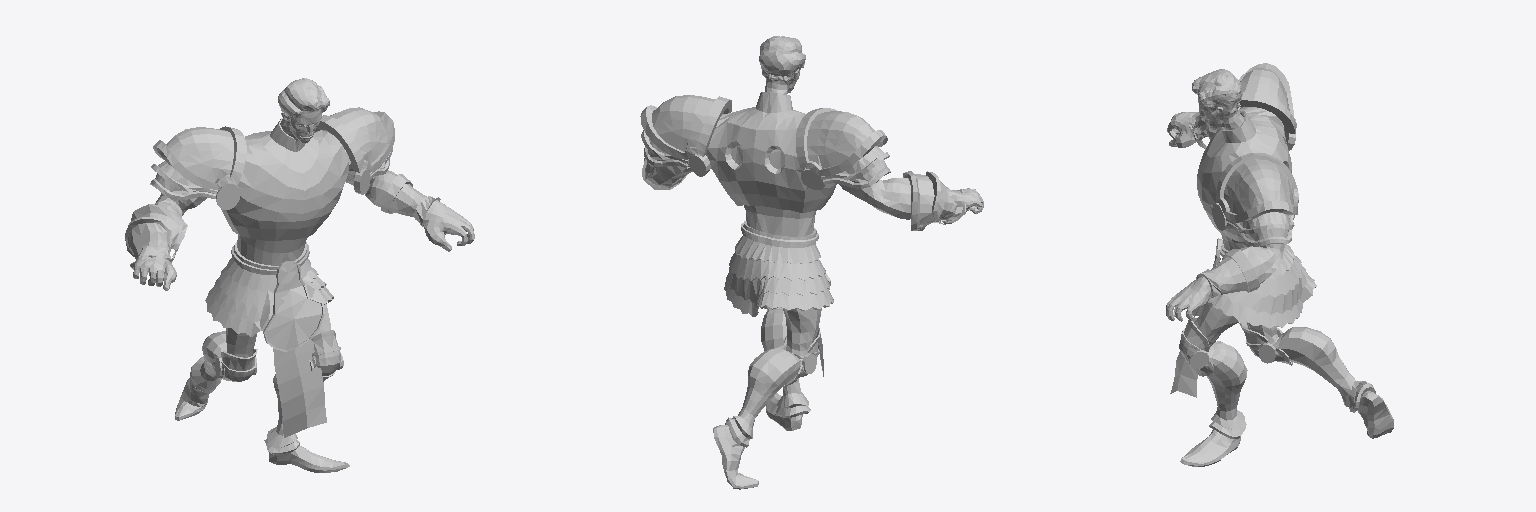
The model's file is walking_000063.obj.
3 views of the same model, side by side, from view 1: azimuth 30°, elevation 25°; view 2: azimuth 150°, elevation 25°; view 3: azimuth 270°, elevation 25° (orthographic).
Parts seen in each view (by area): view 1: polySurface17, polySurface13, polySurface4, polySurface18, polySurface26, polySurface12, polySurface7, polySurface9, polySurface3, polySurface16, polySurface21, polySurface24; view 2: polySurface17, polySurface4, polySurface13, polySurface7, polySurface9, polySurface16, polySurface3, polySurface18; view 3: polySurface17, polySurface7, polySurface4, polySurface18, polySurface3, polySurface13, polySurface16, polySurface21, polySurface26, polySurface24.
Boxes of the visible parts, box(x1,y1,x2,y2) form: polySurface17: box(175, 118, 349, 472); polySurface13: box(150, 126, 246, 200); polySurface4: box(205, 257, 333, 336); polySurface18: box(327, 131, 474, 251); polySurface26: box(273, 340, 326, 437); polySurface12: box(263, 261, 324, 351); polySurface7: box(315, 107, 394, 179); polySurface9: box(125, 204, 187, 272); polySurface3: box(278, 78, 329, 147); polySurface16: box(133, 193, 206, 290); polySurface21: box(311, 330, 341, 381); polySurface24: box(212, 349, 257, 381); polySurface17: box(706, 92, 836, 489); polySurface4: box(724, 235, 833, 316); polySurface13: box(796, 108, 890, 188); polySurface7: box(640, 95, 731, 168); polySurface9: box(903, 171, 965, 230); polySurface16: box(839, 178, 983, 219); polySurface3: box(759, 36, 805, 94); polySurface18: box(642, 154, 705, 189); polySurface17: box(1180, 108, 1393, 466); polySurface7: box(1216, 153, 1298, 246); polySurface4: box(1208, 244, 1316, 328); polySurface18: box(1166, 244, 1285, 321); polySurface3: box(1192, 69, 1243, 130); polySurface13: box(1238, 63, 1296, 133); polySurface16: box(1167, 106, 1261, 147); polySurface21: box(1179, 317, 1213, 376); polySurface26: box(1170, 307, 1203, 397); polySurface24: box(1239, 321, 1292, 365).
Size of the model in its own units: 1.73 by 1.88 by 1.02.